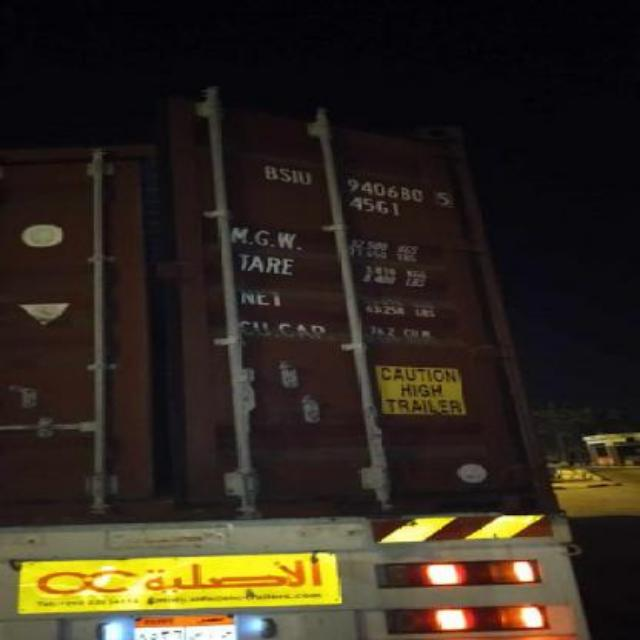0: (372, 182, 386, 195), (412, 188, 424, 202)
4: (360, 180, 372, 193)
5: (434, 190, 452, 206)
6: (386, 184, 399, 200)
8: (398, 184, 412, 200)
9: (346, 178, 359, 192)
B: (262, 164, 278, 180)
I: (292, 168, 300, 184)
S: (280, 166, 292, 182)
U: (298, 170, 314, 186)
